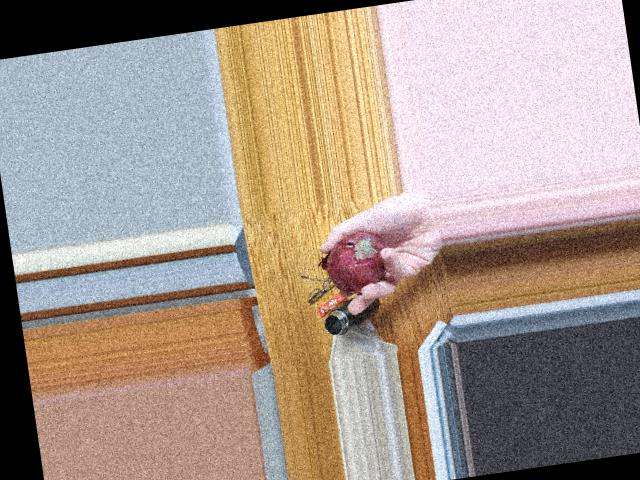onion: (323, 231, 382, 294)
